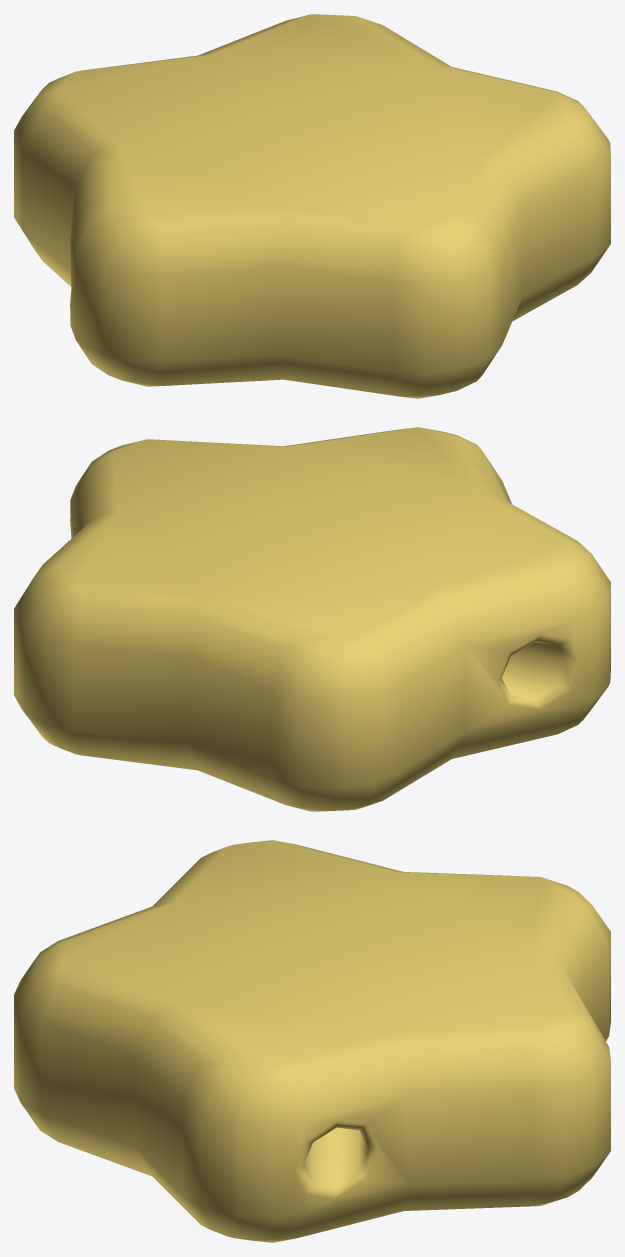
Rendered from bead_star.fbx.
The picture shows the model from 3 angles, top to bottom: view 1: azimuth 30°, elevation 25°; view 2: azimuth 150°, elevation 25°; view 3: azimuth 270°, elevation 25°; orthographic projection. The views are drawn at different scales.
Visible parts, largest first — view 1: bead_star; view 2: bead_star; view 3: bead_star.
Boxes of the visible parts, bbox=[...] form: bead_star: bbox=[14, 14, 610, 398]; bead_star: bbox=[14, 427, 610, 811]; bead_star: bbox=[14, 840, 610, 1242].
Bounding box in the file's own units: 2.53 × 0.8 × 2.43.
